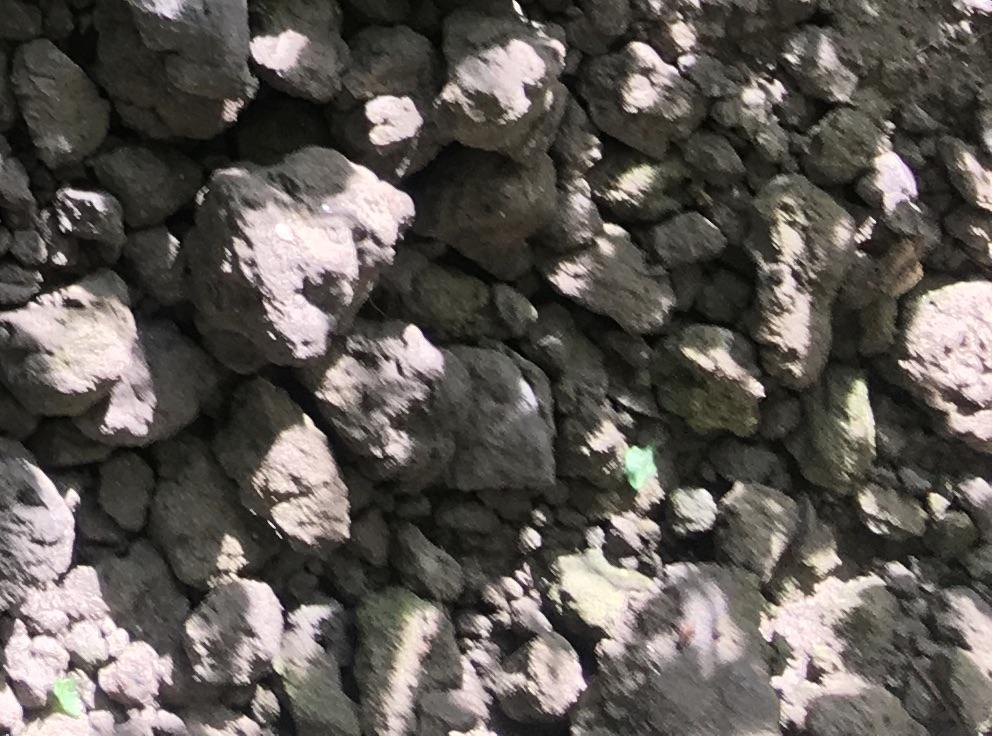block: (185, 145, 414, 372), (2, 268, 215, 450), (302, 317, 468, 499), (748, 167, 854, 393), (219, 379, 354, 556), (434, 5, 572, 167), (130, 1, 258, 102)
